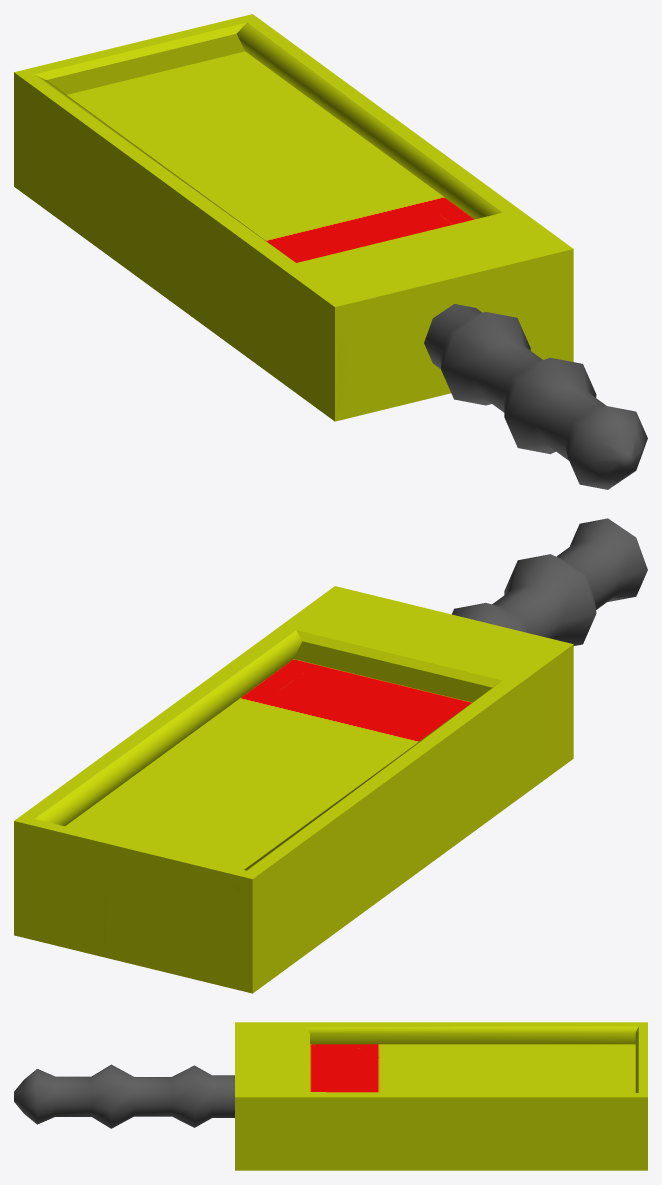
Rendered from Building1_CraneController.fbx.
3 views of the same model, one above another, from view 1: azimuth 30°, elevation 25°; view 2: azimuth 150°, elevation 25°; view 3: azimuth 270°, elevation 25° (orthographic). The views are drawn at different scales.
Visible parts, largest first — view 1: CraneController; view 2: CraneController; view 3: CraneController.
Boxes of the visible parts, x1,y1,x2,y2 form: CraneController: (14,14,647,489); CraneController: (14,518,647,993); CraneController: (14,1022,647,1170).
Size of the model in its own units: 10.73 by 4.92 by 38.37.
